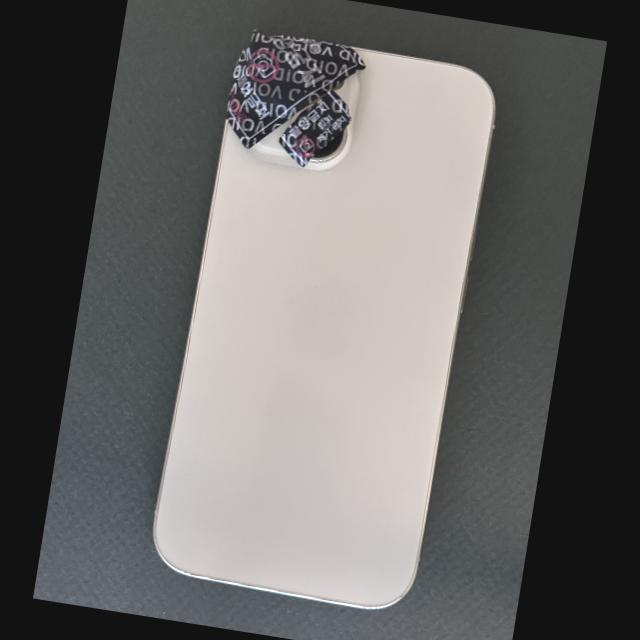lens: (311, 128, 348, 161)
phone: (152, 34, 496, 610)
sticker: (224, 28, 366, 150), (278, 90, 352, 168)
